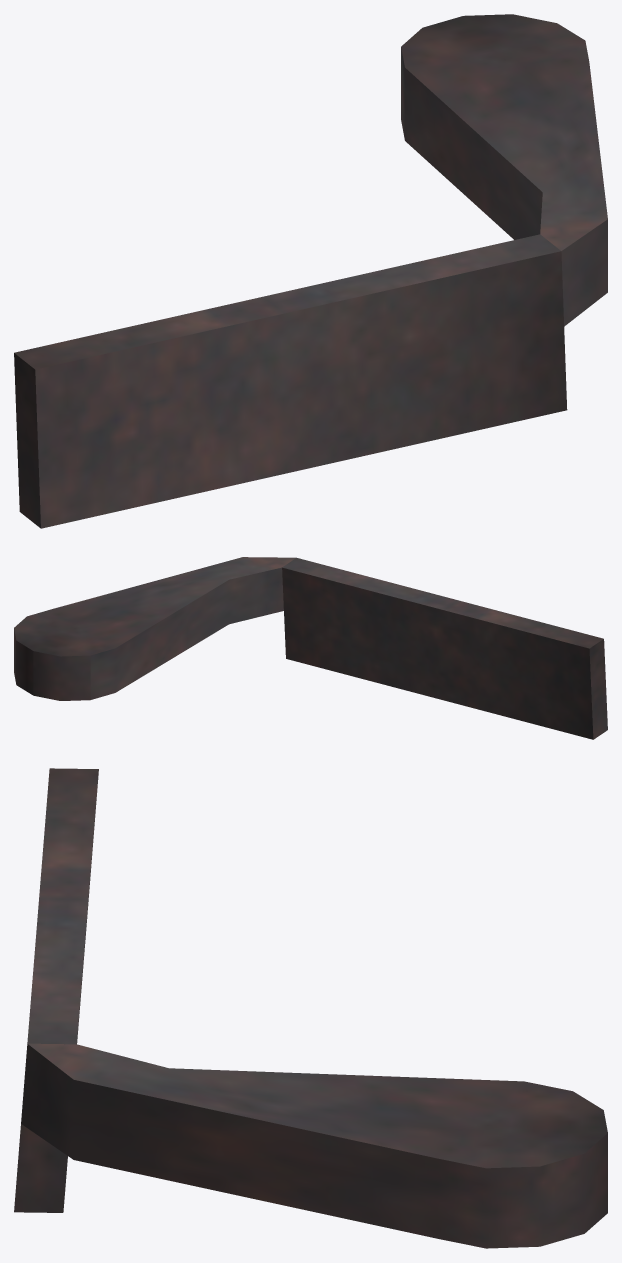
The model's file is rod_line_short.fbx.
3 views of the same model, one above another, from view 1: azimuth 30°, elevation 25°; view 2: azimuth 150°, elevation 25°; view 3: azimuth 270°, elevation 25° (orthographic). The views are drawn at different scales.
Parts seen in each view (by area): view 1: rod_line_short; view 2: rod_line_short; view 3: rod_line_short.
Boxes of the visible parts, left/top/right/bottom form: rod_line_short: left=14, top=14, right=607, bottom=528; rod_line_short: left=14, top=557, right=607, bottom=739; rod_line_short: left=14, top=768, right=607, bottom=1248.
Size of the model in its own units: 0.1898 by 0.0374 by 0.1191.
